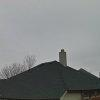Chimney: (50, 44, 75, 73)
